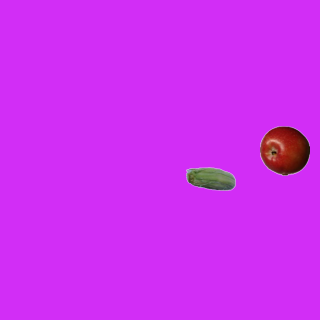Apple Braeburn: (259, 125, 309, 175)
Corn Husk: (185, 155, 235, 205)
